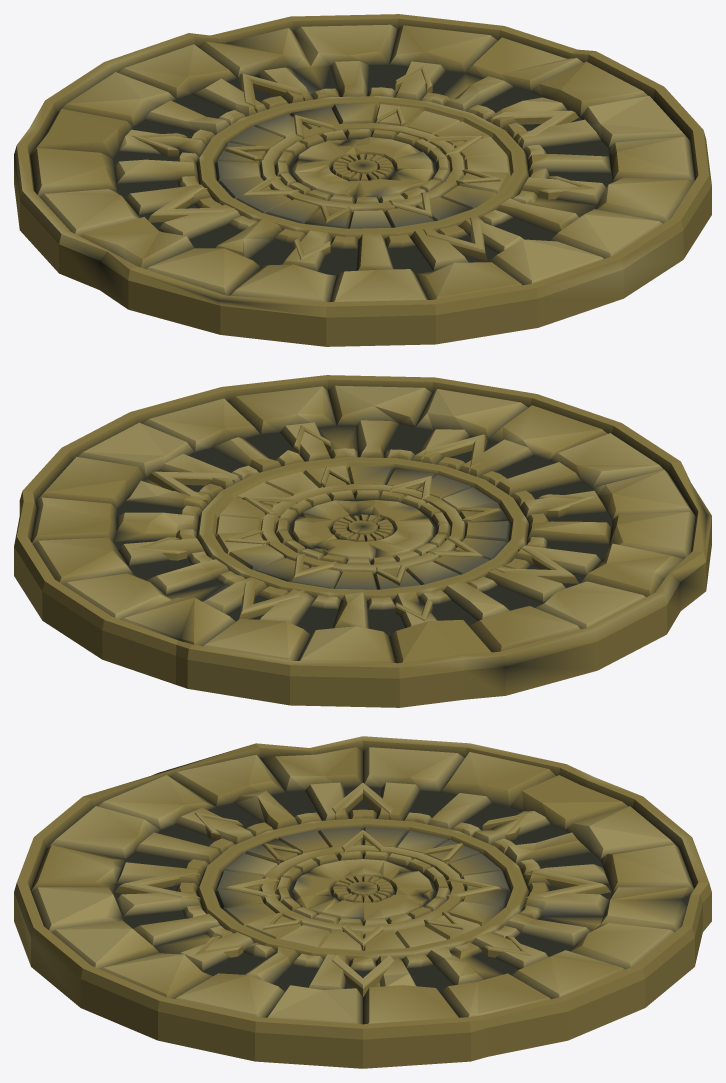
File: ENV_Platform_01.fbx
The picture shows the model from 3 angles, top to bottom: view 1: azimuth 30°, elevation 25°; view 2: azimuth 150°, elevation 25°; view 3: azimuth 270°, elevation 25°; orthographic projection.
Visible parts, largest first — view 1: ENV_Platform_01; view 2: ENV_Platform_01; view 3: ENV_Platform_01.
Part boxes in pixels (x1,y1,x2,y2): ENV_Platform_01: (14, 14, 711, 346); ENV_Platform_01: (14, 375, 711, 707); ENV_Platform_01: (14, 736, 711, 1068).
Size of the model in its own units: 1078 by 80.46 by 1078.
